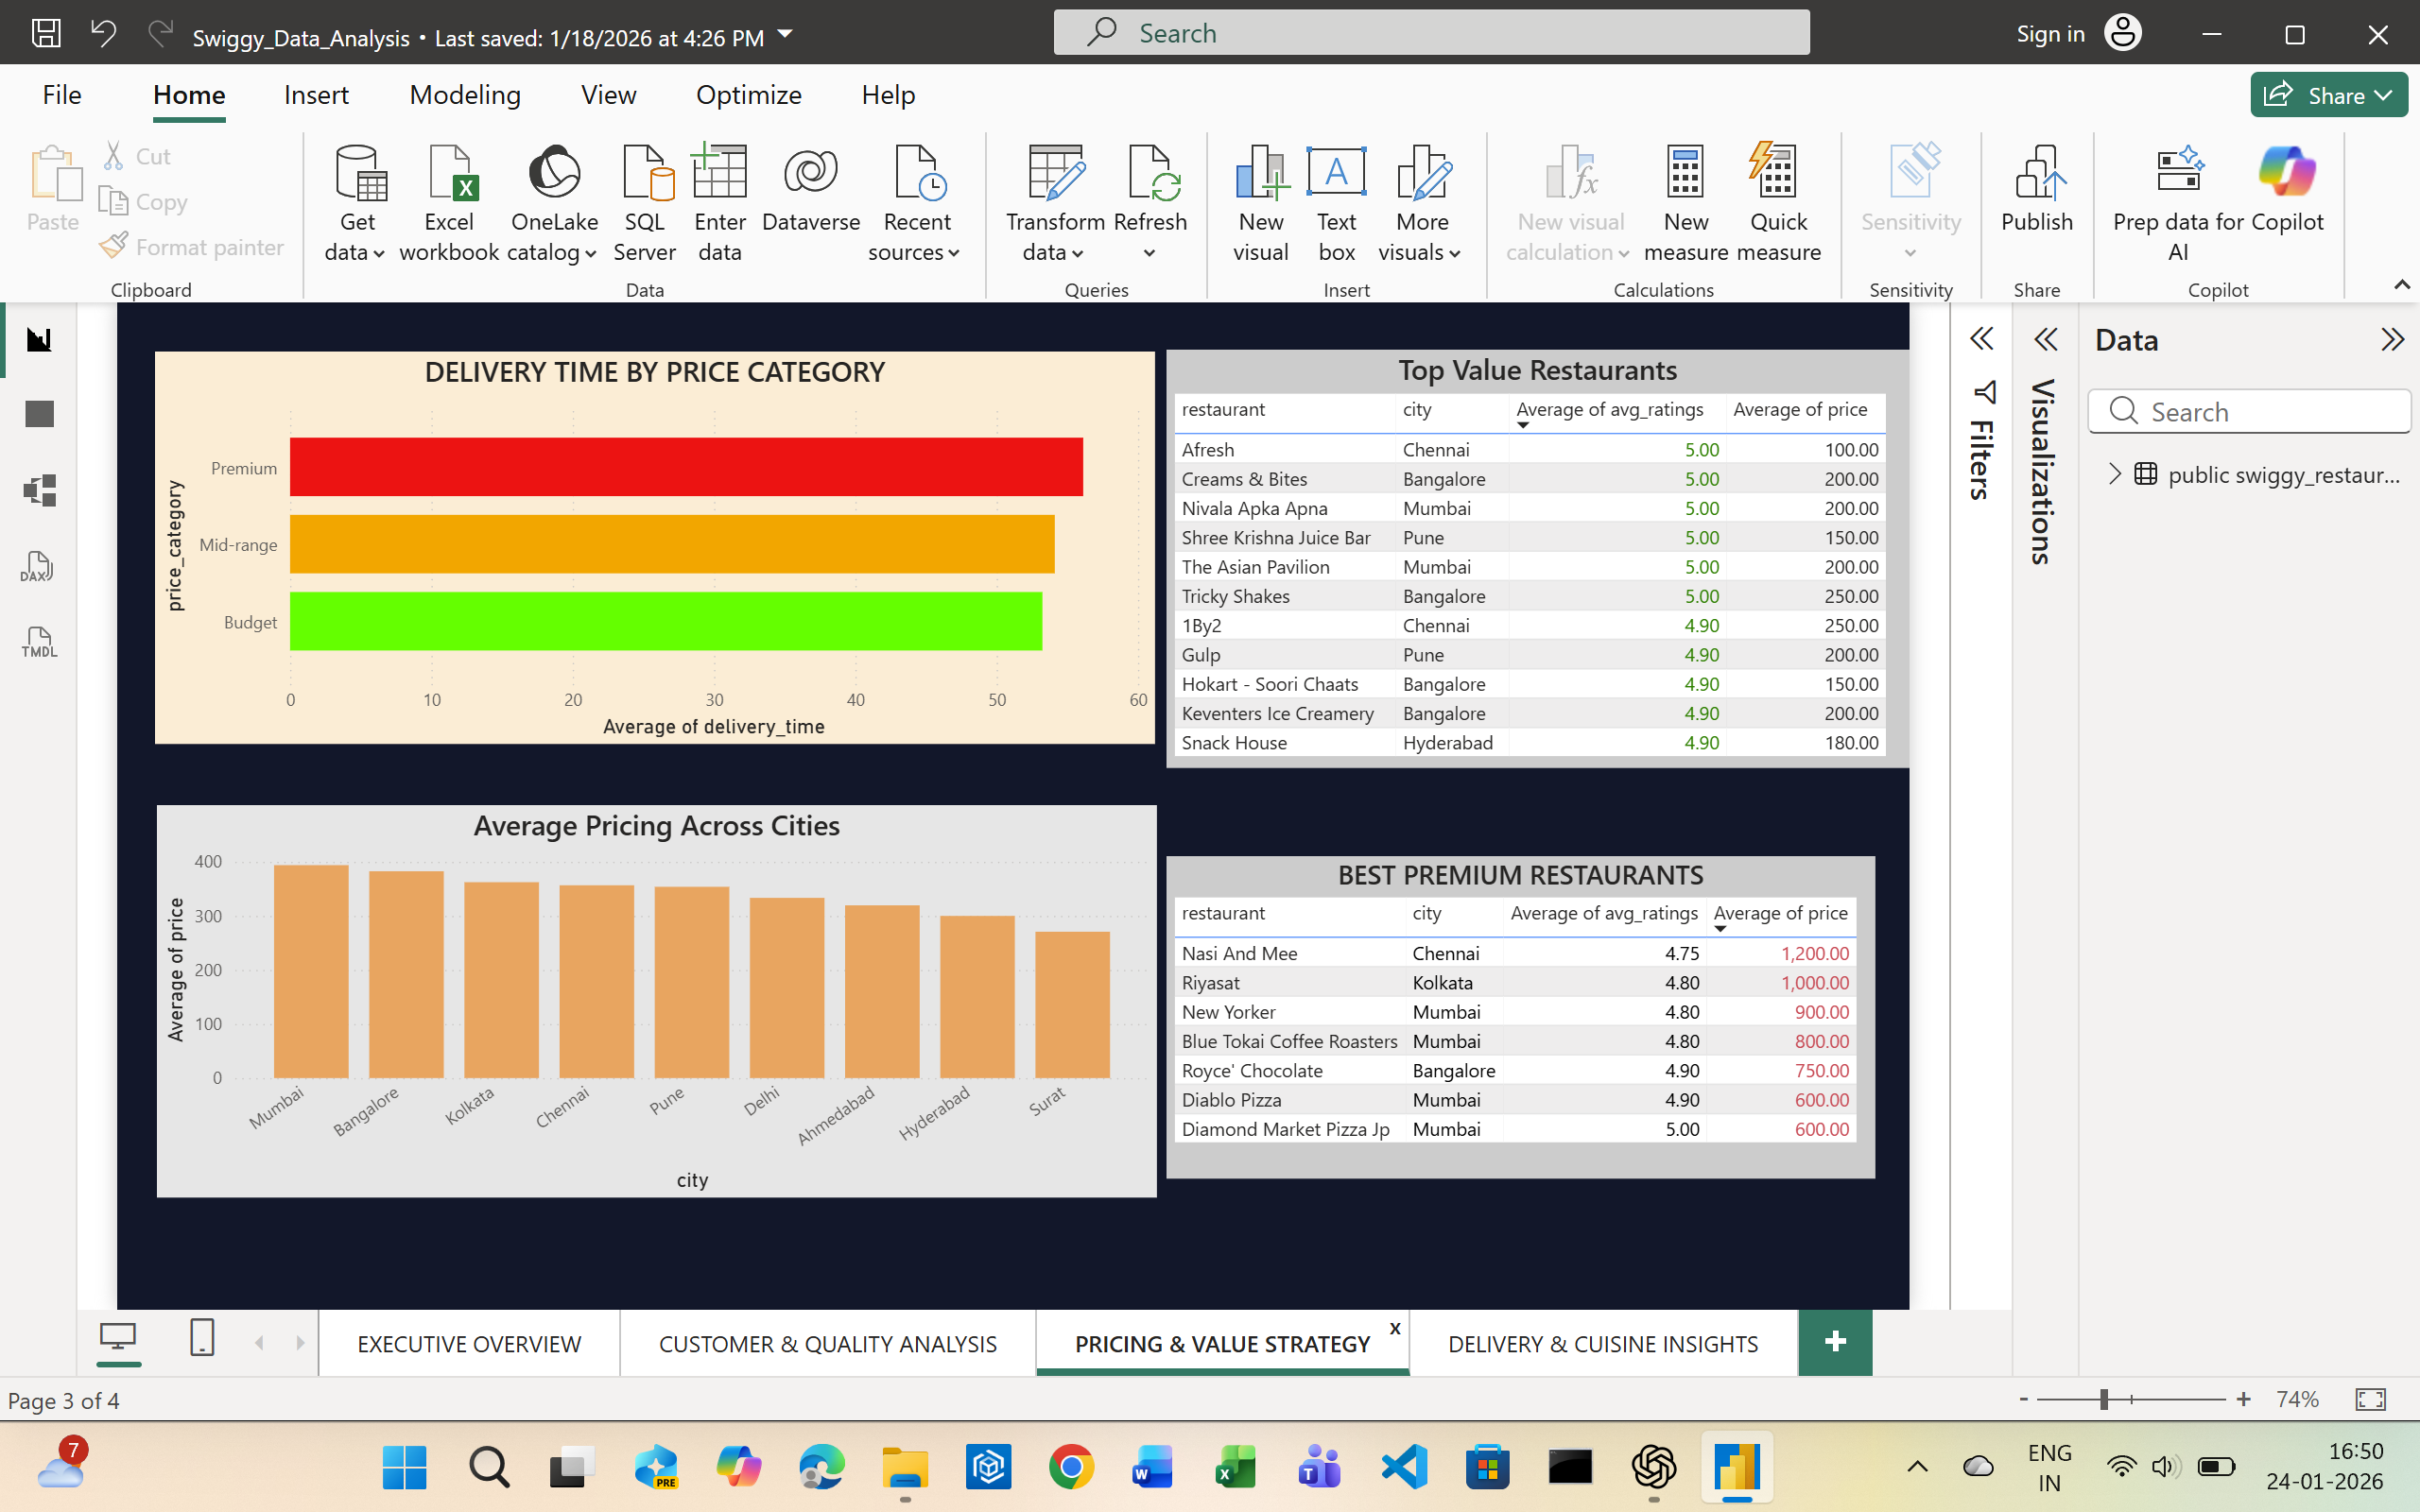

This screenshot's page, from the dashboard's own definition file:
{"tool":"powerbi","page":{"name":"PRICING & VALUE STRATEGY","canvas":[1280,720],"ordinal":2},"visuals":[{"type":"clusteredBarChart","title":"DELIVERY TIME BY PRICE CATEGORY","fields":{"Category":["public swiggy_restaurants.price_category"],"Y":["Avg(public swiggy_restaurants.delivery_time)"]},"box":[27.3,34.9,714.3,280.6],"z":0},{"type":"clusteredColumnChart","title":"Average Pricing Across Cities","fields":{"Category":["public swiggy_restaurants.city"],"Y":["Avg(public swiggy_restaurants.price)"]},"box":[28.8,359.4,714.3,280.6],"z":1000},{"type":"tableEx","title":"Top Value Restaurants","fields":{"Values":["public swiggy_restaurants.restaurant","public swiggy_restaurants.city","Avg(public swiggy_restaurants.avg_ratings)","Avg(public swiggy_restaurants.price)"]},"box":[749.2,33.4,530.8,298.8],"z":2000},{"type":"tableEx","title":"BEST PREMIUM RESTAURANTS","fields":{"Values":["public swiggy_restaurants.restaurant","public swiggy_restaurants.city","Avg(public swiggy_restaurants.avg_ratings)","Avg(public swiggy_restaurants.price)"]},"box":[749.2,395.8,506.5,230.5],"z":3000}]}

Visuals, with their boxes on the page's 1280x720 design canvas (x1, y1, x2, y2). These are canvas units, not pixel positions in the 2420x1512 screenshot, which may show the page scaled, cropped or inside an application window:
"DELIVERY TIME BY PRICE CATEGORY" clusteredBarChart: (27, 35, 742, 316)
"Average Pricing Across Cities" clusteredColumnChart: (29, 359, 743, 640)
"Top Value Restaurants" tableEx: (749, 33, 1280, 332)
"BEST PREMIUM RESTAURANTS" tableEx: (749, 396, 1256, 626)
